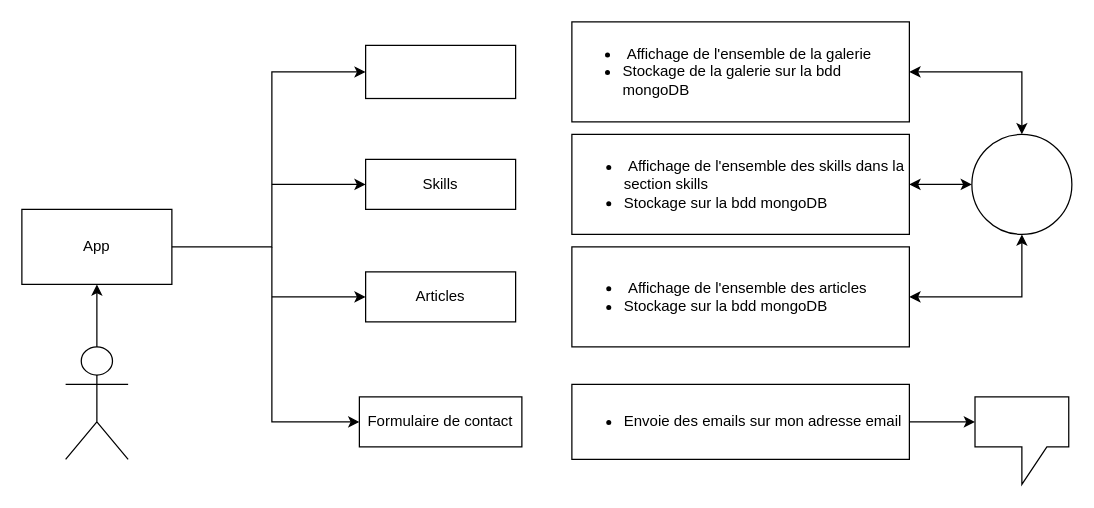
Image size: 1094x508. Some labels were removed from this diagram. The box of each missing label's shape, as (x1, y1, x2, y2) in pixels:
Actor: (64, 346, 128, 459)
BDD: (971, 133, 1072, 234)
Galerie: (364, 44, 516, 98)
Gmail: (974, 396, 1069, 484)
